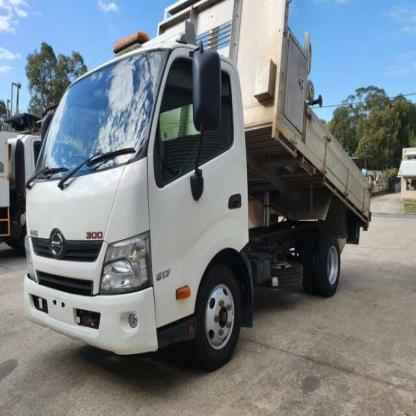dump_truck: (14, 2, 382, 374)
